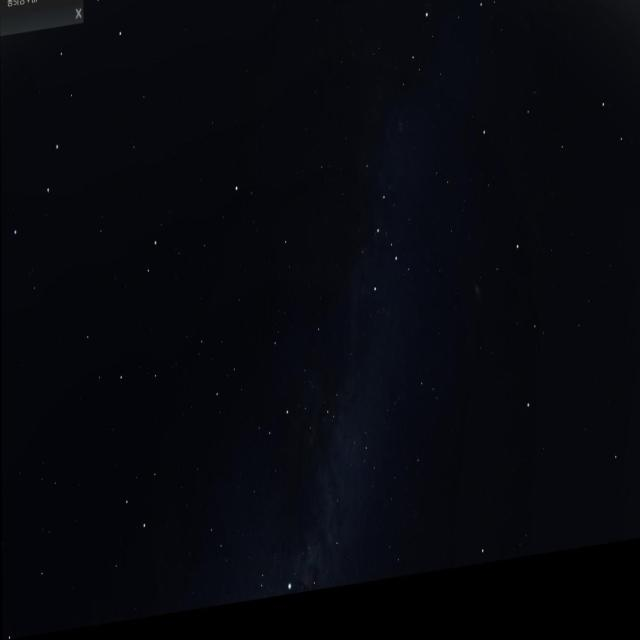cassiopeia: (344, 166, 411, 316)
ursa_major: (1, 0, 126, 248)
